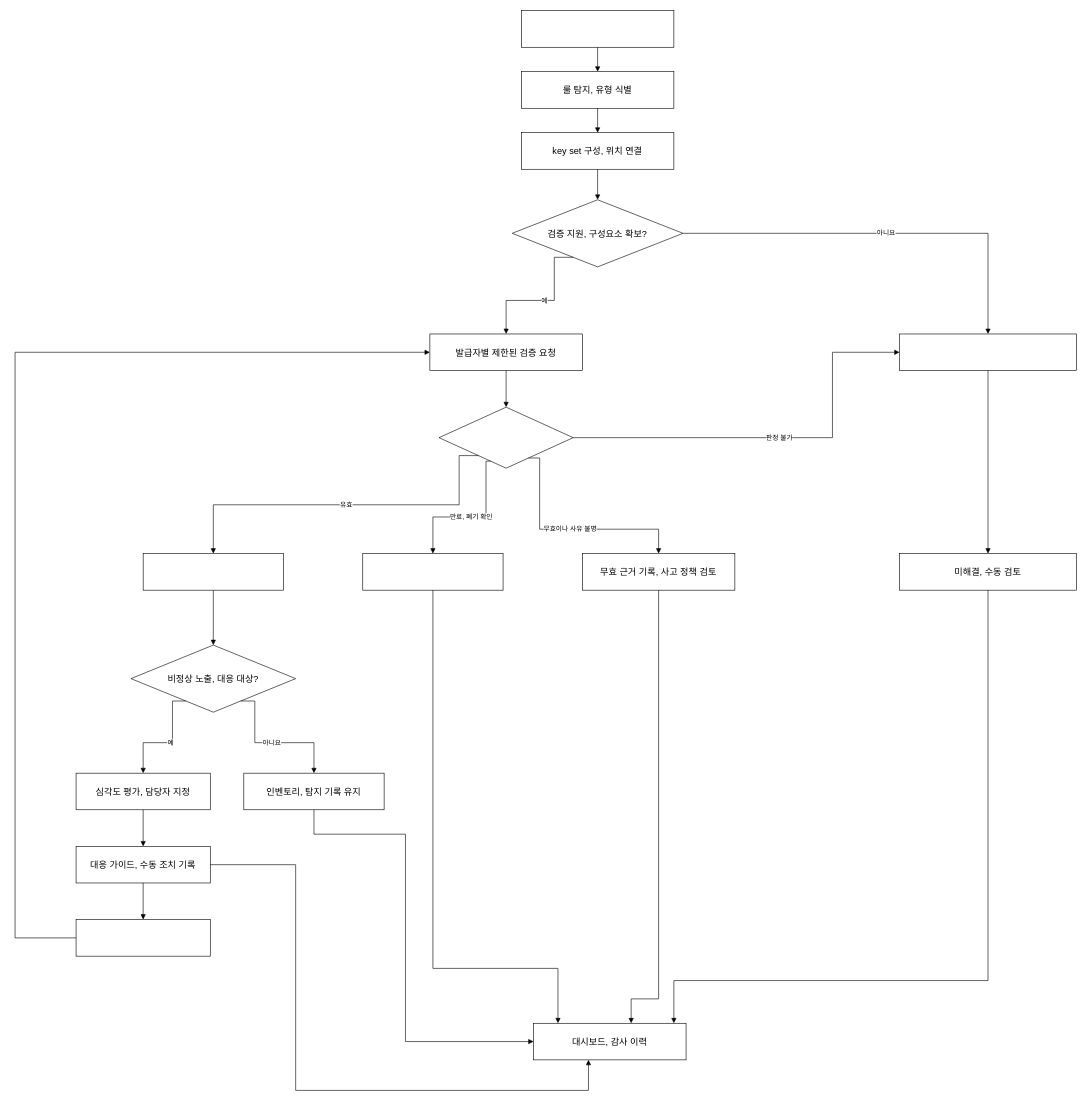
This 1087x1106 diagram has some shape labels left out. Here are the shapes that lost their labels. From the top down, the centre of each, then its label:
At (x=597, y=28): "허용 범위 수집 또는 재수집".
At (x=987, y=352): "미검증 또는 확인 불가 사유 기록".
At (x=505, y=437): "판정".
At (x=213, y=571): "권한, 환경, 노출 근거 수집".
At (x=432, y=571): "이력 보존, 신규 사고 제외".
At (x=142, y=937): "재검증 대기".
